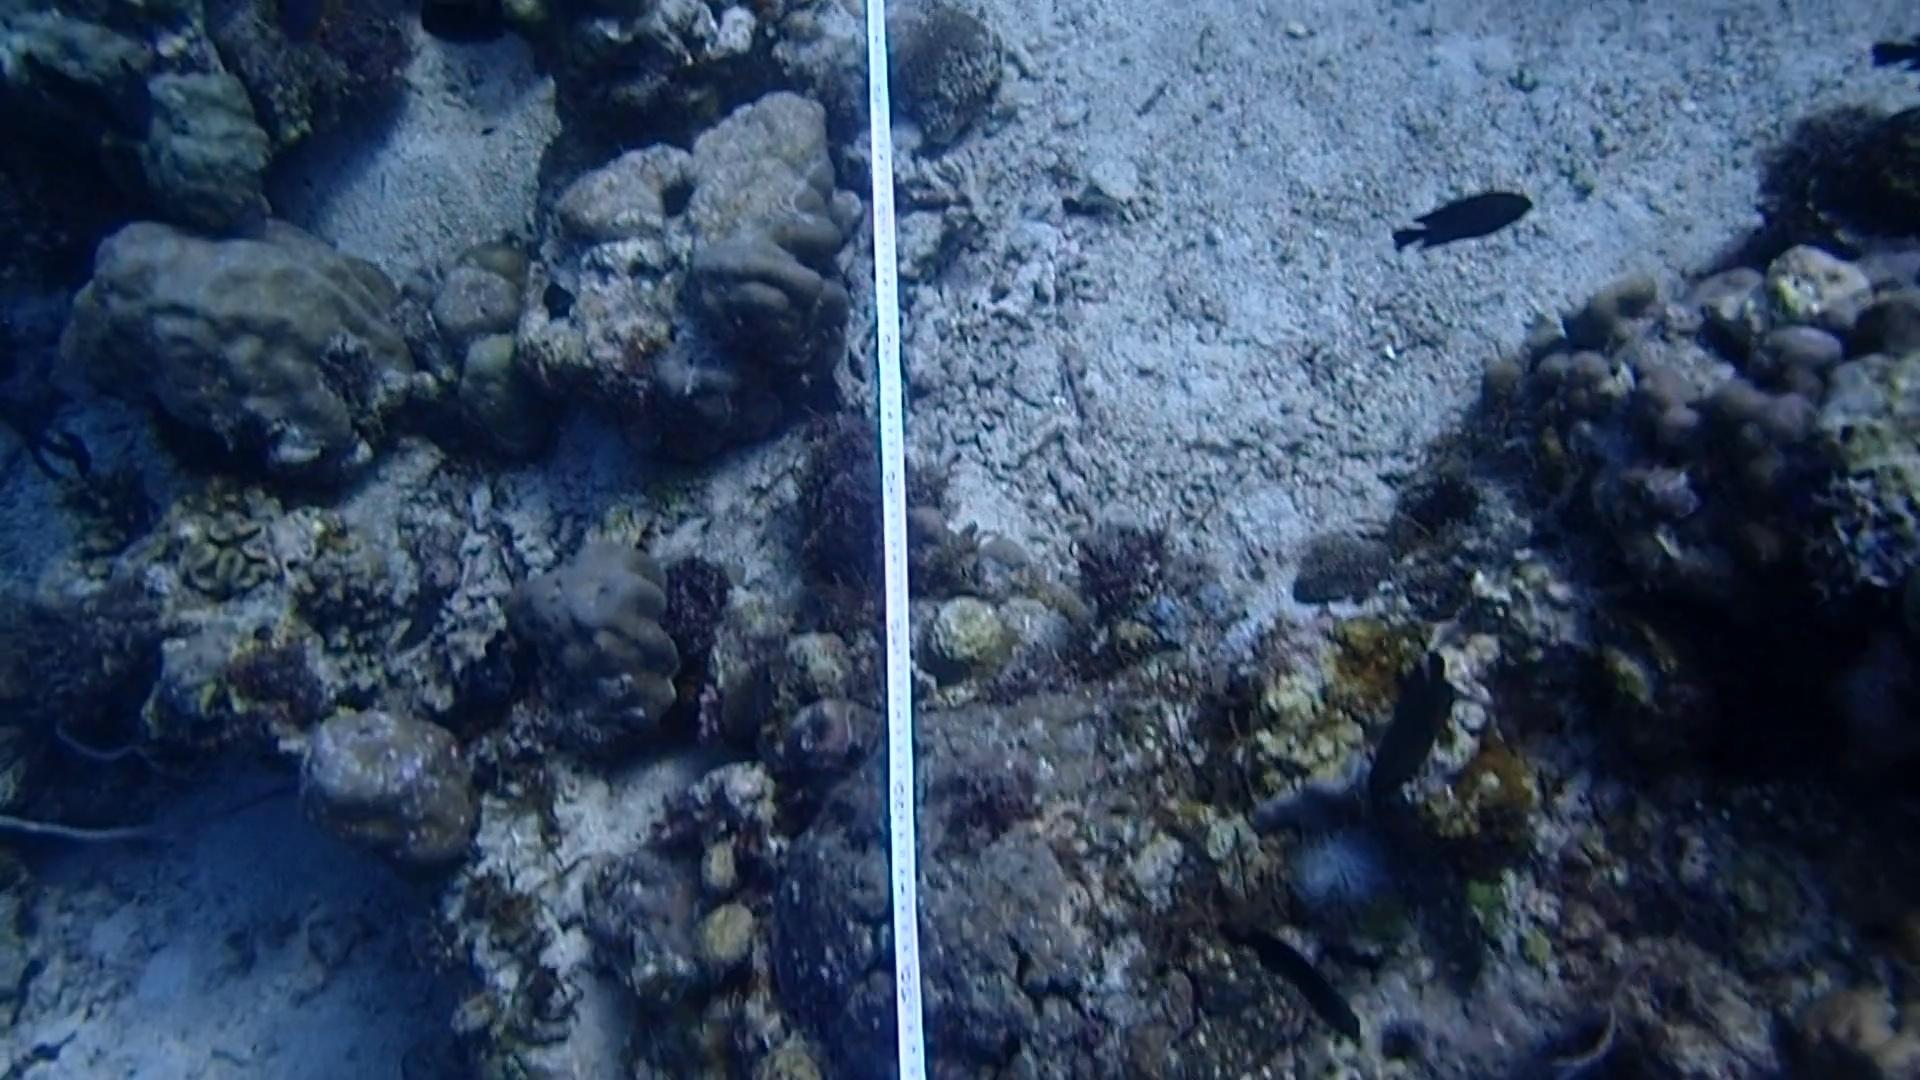Dark Fish: (1220, 905, 1389, 1044), (1349, 644, 1472, 802), (1382, 179, 1544, 261), (1865, 18, 1920, 88)
